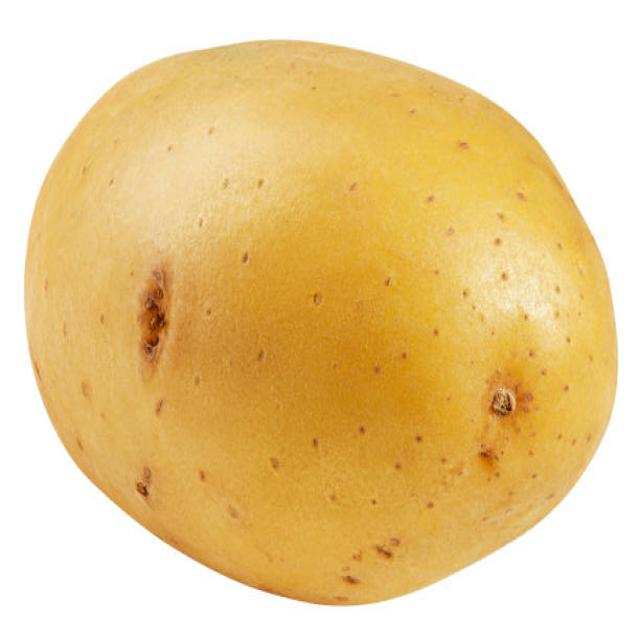Potato: (20, 31, 624, 618)
